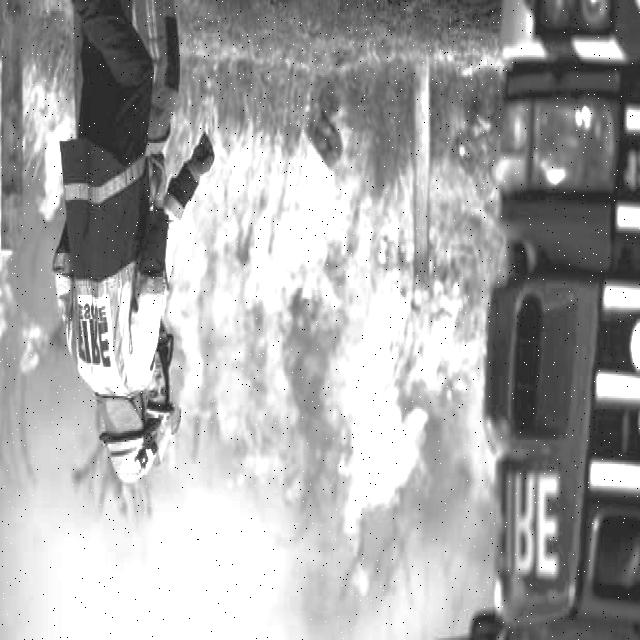api: (155, 142, 365, 514), (312, 200, 496, 574), (17, 55, 83, 233), (1, 233, 61, 389)
